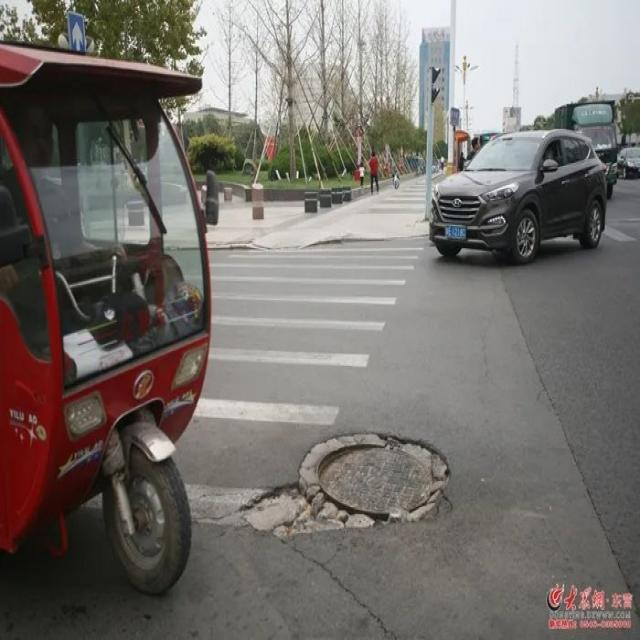Pothole: (240, 424, 457, 546)
